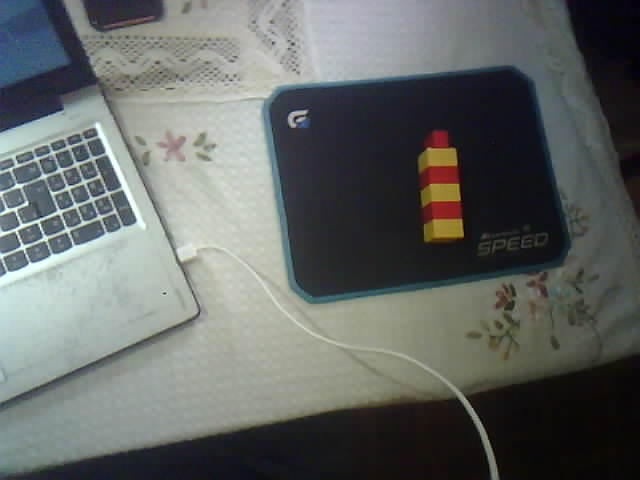lego: (414, 130, 466, 245)
